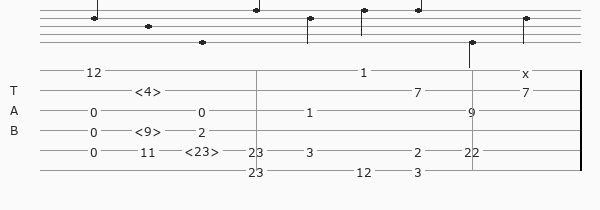0: (90, 104, 102, 117), (90, 144, 102, 157), (90, 124, 102, 137), (198, 104, 210, 117)
1: (306, 104, 318, 117), (360, 64, 372, 77)
11: (140, 144, 160, 157)
12: (86, 64, 106, 77), (356, 164, 376, 177)
2: (198, 124, 210, 137), (414, 144, 426, 157)
22: (464, 144, 484, 157)
23: (248, 164, 268, 177), (248, 144, 268, 157)
3: (306, 144, 318, 157), (414, 164, 426, 177)
7: (414, 84, 426, 97), (522, 84, 534, 97)
9: (468, 104, 480, 117)
harmonic: (184, 143, 224, 157), (134, 123, 166, 137), (134, 83, 166, 97)
x: (522, 65, 533, 76)
